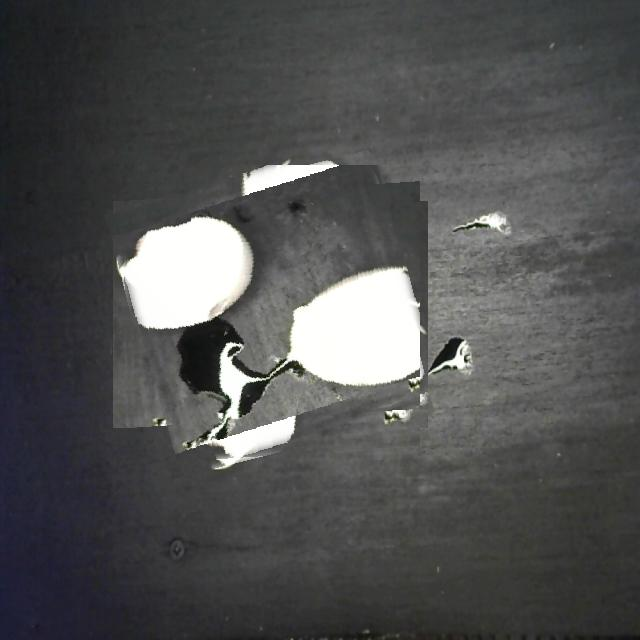biodegradable: (121, 165, 420, 465)
